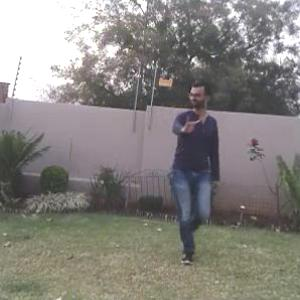takeoff-hand: (176, 108, 206, 140)
